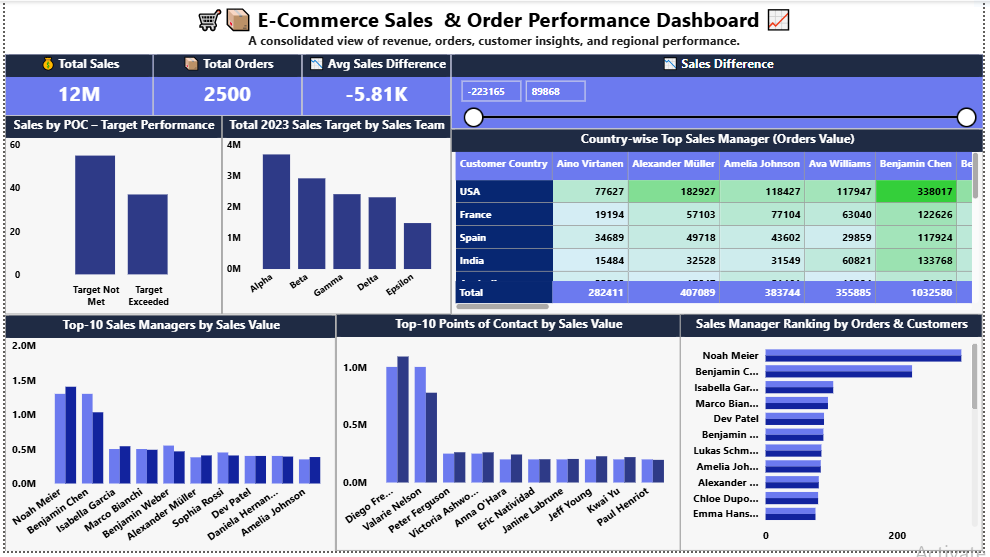

This screenshot's page, from the dashboard's own definition file:
{"tool":"powerbi","page":{"name":"Sales Team","canvas":[1280,720],"ordinal":0},"visuals":[{"type":"textbox","box":[0,0,1280.2,69.1],"z":0},{"type":"columnChart","title":"Total 2023 Sales Target by Sales Team","fields":{"Category":["Sales Targets.Sales Team"],"Y":["Sales Targets.2023 Sales Target"]},"box":[283.7,149.8,299.5,260.6],"z":1000},{"type":"columnChart","title":"Sales by POC – Target Performance","fields":{"Category":["Sales Targets.Target Bucket"],"Y":["Sales Targets.SalesbyPOC"]},"box":[0,149.8,283.7,260.6],"z":2000},{"type":"clusteredColumnChart","title":"Top-10 Points of Contact by Sales Value","fields":{"Y":["Sales Targets.2023 Sales Target","Sales Targets.SalesbyPOC"],"Category":["Sales Targets.Sales POC"]},"box":[433,410,450.7,309.6],"z":3000},{"type":"lineClusteredColumnComboChart","title":"Top-10 Sales Managers by Sales Value","fields":{"Category":["Sales Manager Target Completion.Sales Manager"],"Y":["Sales Manager Target Completion.Total Target","Sales Manager Target Completion.Total Sales"]},"box":[0,410.4,433.4,309.6],"z":4000},{"type":"pivotTable","title":"Country-wise Top Sales Manager (Orders Value)","fields":{"Rows":["Orders.Customer Country"],"Columns":["Orders.Sales Manager"],"Values":["Orders.Order Value"]},"box":[583.2,167,697,243.4],"z":5000},{"type":"clusteredBarChart","title":"Sales Manager Ranking by Orders & Customers","fields":{"Category":["Orders.Sales Manager"],"Y":["Orders.Customer ID","Orders.Order ID"]},"box":[884.2,410,396,309.6],"z":6000},{"type":"card","title":"📉 Avg Sales Difference","fields":{"Values":["Sales Targets.Sales Difference"]},"box":[388.8,69.1,195,80.6],"z":7000},{"type":"card","title":"💰 Total Sales","fields":{"Values":["Sales Targets.Total Sales"]},"box":[0,69.1,194.4,80.6],"z":8000},{"type":"card","title":"📦 Total Orders","fields":{"Values":["Orders.Total Orders"]},"box":[194,69.1,195,80.6],"z":9000},{"type":"slicer","title":"📉 Sales Difference","fields":{"Values":["Sales Targets.Sales Difference"]},"box":[583.2,69.1,697,97.9],"z":10000}]}

Visuals, with their boxes in screenshot pixels (x1, y1, x2, y2), scaled from the page's 1280x720 canvas onto the 990x557 screenshot:
textbox: rect(0, 0, 989, 53)
"Total 2023 Sales Target by Sales Team" columnChart: rect(219, 116, 451, 317)
"Sales by POC – Target Performance" columnChart: rect(0, 116, 219, 317)
"Top-10 Points of Contact by Sales Value" clusteredColumnChart: rect(335, 317, 683, 556)
"Top-10 Sales Managers by Sales Value" lineClusteredColumnComboChart: rect(0, 317, 335, 556)
"Country-wise Top Sales Manager (Orders Value)" pivotTable: rect(451, 129, 989, 317)
"Sales Manager Ranking by Orders & Customers" clusteredBarChart: rect(684, 317, 989, 556)
"📉 Avg Sales Difference" card: rect(301, 53, 452, 116)
"💰 Total Sales" card: rect(0, 53, 150, 116)
"📦 Total Orders" card: rect(150, 53, 301, 116)
"📉 Sales Difference" slicer: rect(451, 53, 989, 129)
